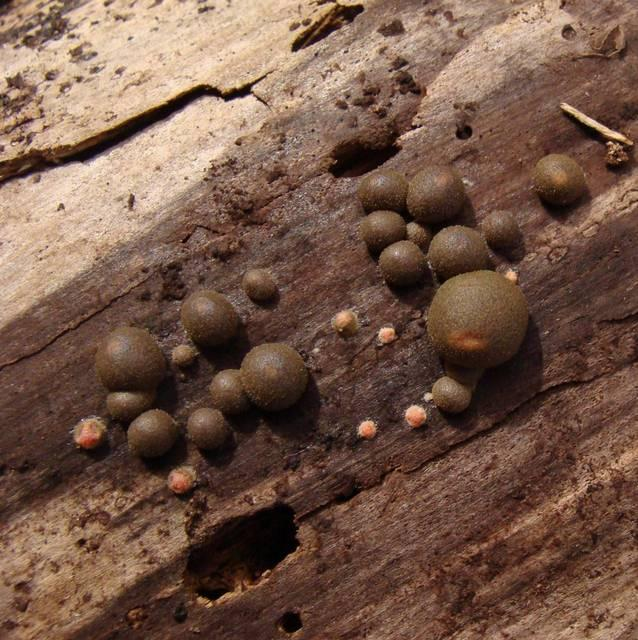Non-edible Mushroom: (424, 268, 529, 414), (238, 341, 308, 412), (93, 324, 166, 392), (179, 288, 239, 348), (405, 164, 465, 223), (528, 152, 586, 207), (125, 407, 179, 459), (185, 406, 231, 451), (241, 267, 277, 302)
